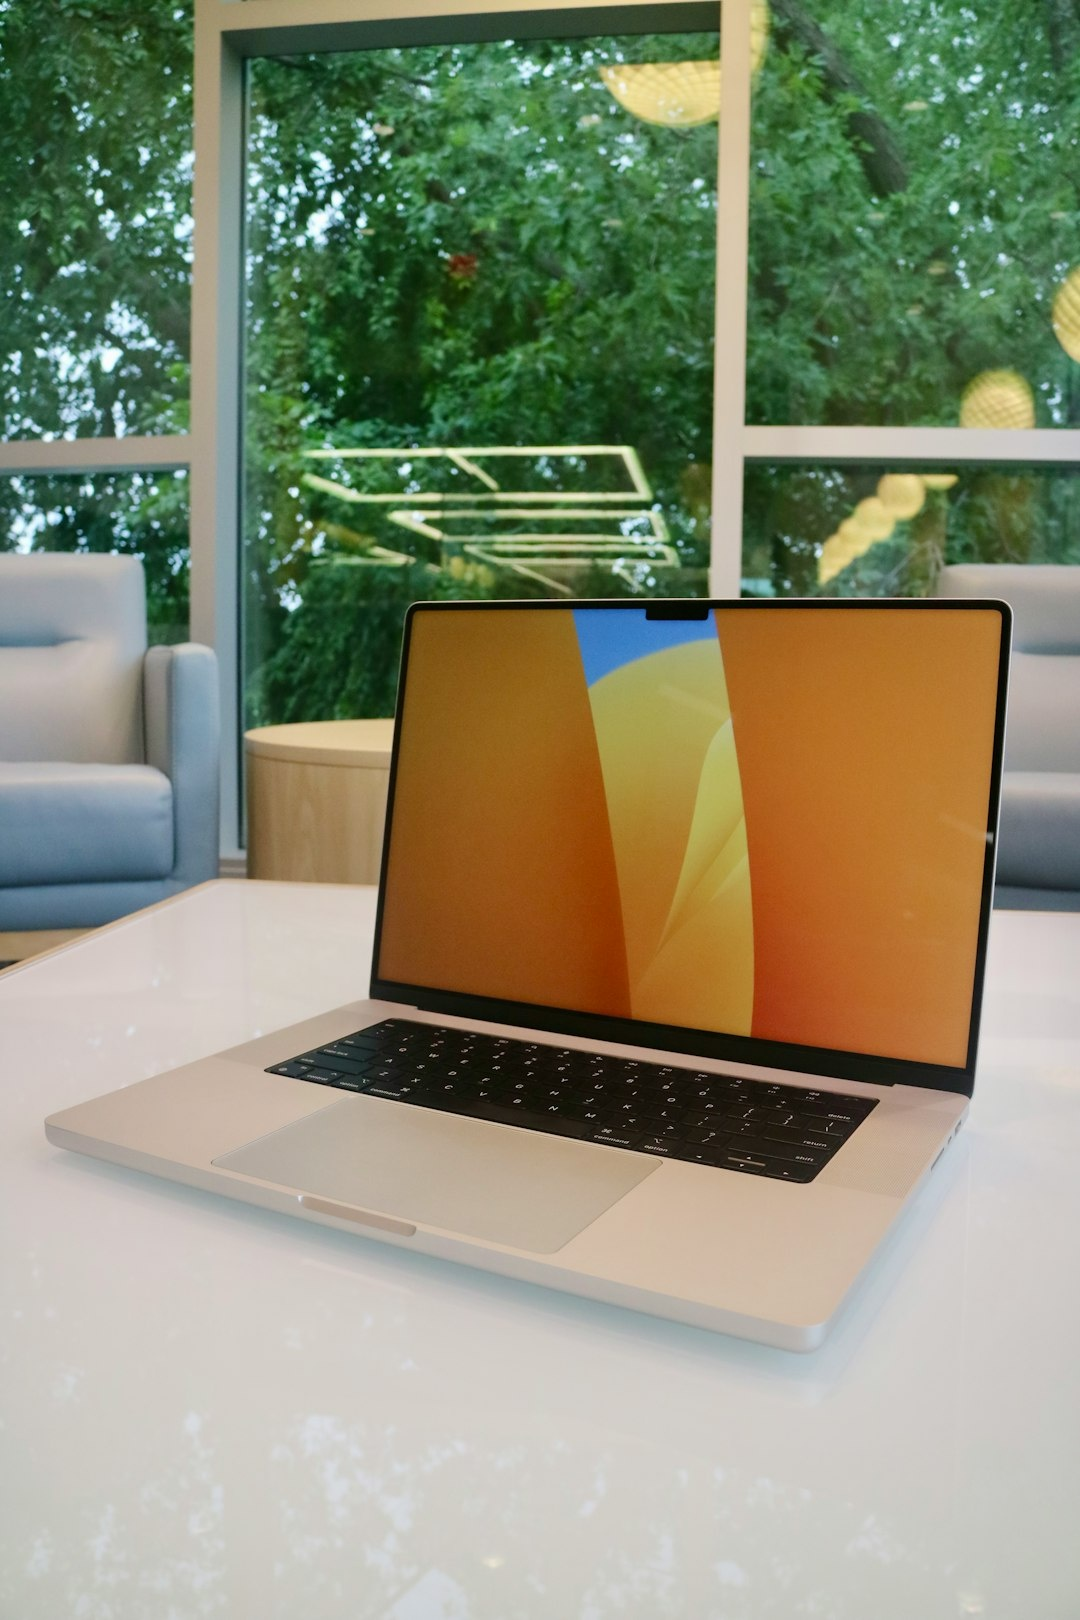laptop: (8, 462, 1080, 1370)
